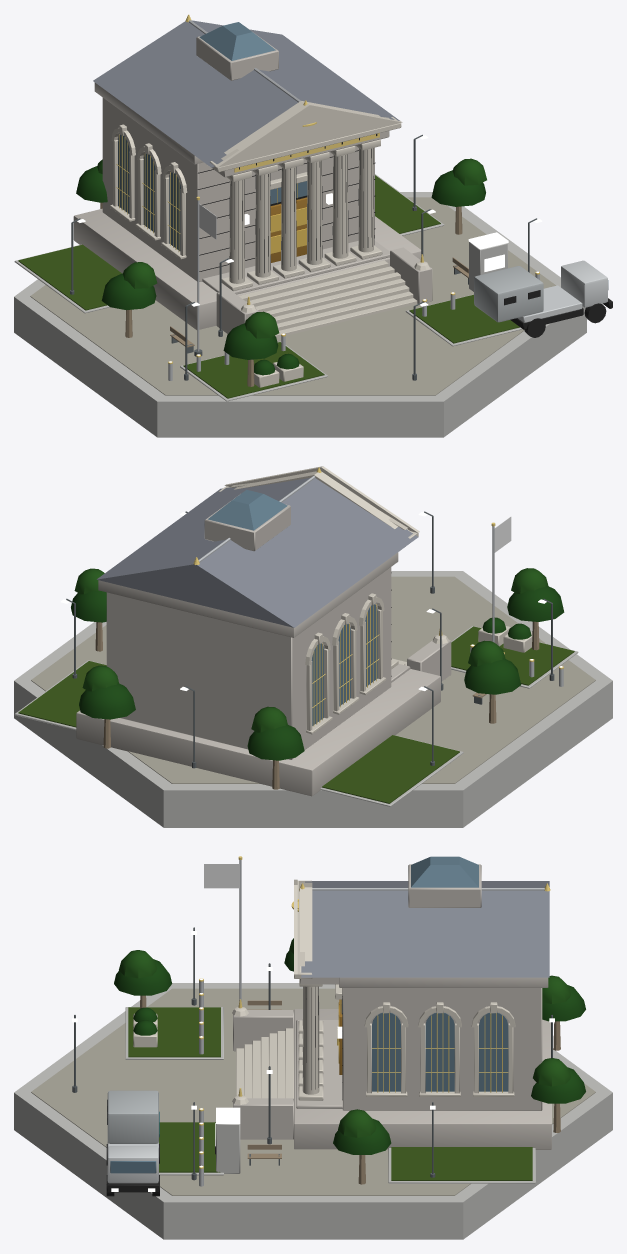
Rendered from bank.glb.
3 renders of one model, top to bottom at view 1: azimuth 30°, elevation 25°; view 2: azimuth 150°, elevation 25°; view 3: azimuth 270°, elevation 25°, orthographic. The views are drawn at different scales.
Parts seen in each view (by area): view 1: stone, wall_concrete, pavers, roof_slate, turf, leaf, paint, glass, dark, gold, steel_dark, metal (+2 smaller); view 2: stone, wall_concrete, roof_slate, pavers, leaf, turf, glass, gold, steel_dark, wood, metal; view 3: stone, wall_concrete, pavers, roof_slate, turf, glass, leaf, paint, gold, metal, wood, dark (+3 smaller).
Boxes of the visible parts, x1,y1,x2,y2 form: stone: (73,27,432,387); wall_concrete: (14,174,586,437); pavers: (30,197,555,395); roof_slate: (93,20,399,167); turf: (18,175,519,398); leaf: (76,158,486,375); paint: (474,260,607,322); glass: (118,22,608,289); dark: (197,134,612,337); gold: (116,14,539,364); steel_dark: (70,134,536,380); metal: (168,20,539,380); stone: (76,466,532,796); wall_concrete: (14,571,612,827); roof_slate: (97,478,418,627); pavers: (31,576,595,783); leaf: (71,568,564,760); turf: (18,626,574,803); glass: (208,489,377,725); gold: (193,467,563,726); steel_dark: (66,511,554,768); wood: (95,621,539,789); metal: (195,476,563,686); stone: (133,864,551,1149); wall_concrete: (14,983,612,1239); pavers: (31,988,595,1195); roof_slate: (301,881,549,977); turf: (128,1007,532,1180); glass: (110,856,508,1173); leaf: (114,938,585,1154); paint: (107,1090,159,1183); gold: (199,856,550,1168); metal: (199,860,544,1186); wood: (140,995,560,1184); dark: (106,987,342,1196).
Bounding box in the file's own units: 21.3 × 12.2 × 24.6.
